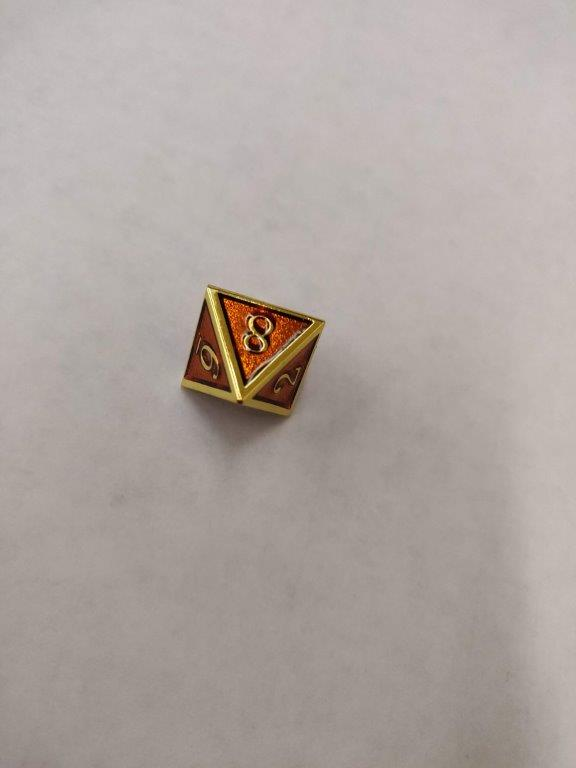d8-8: (177, 284, 327, 418)
